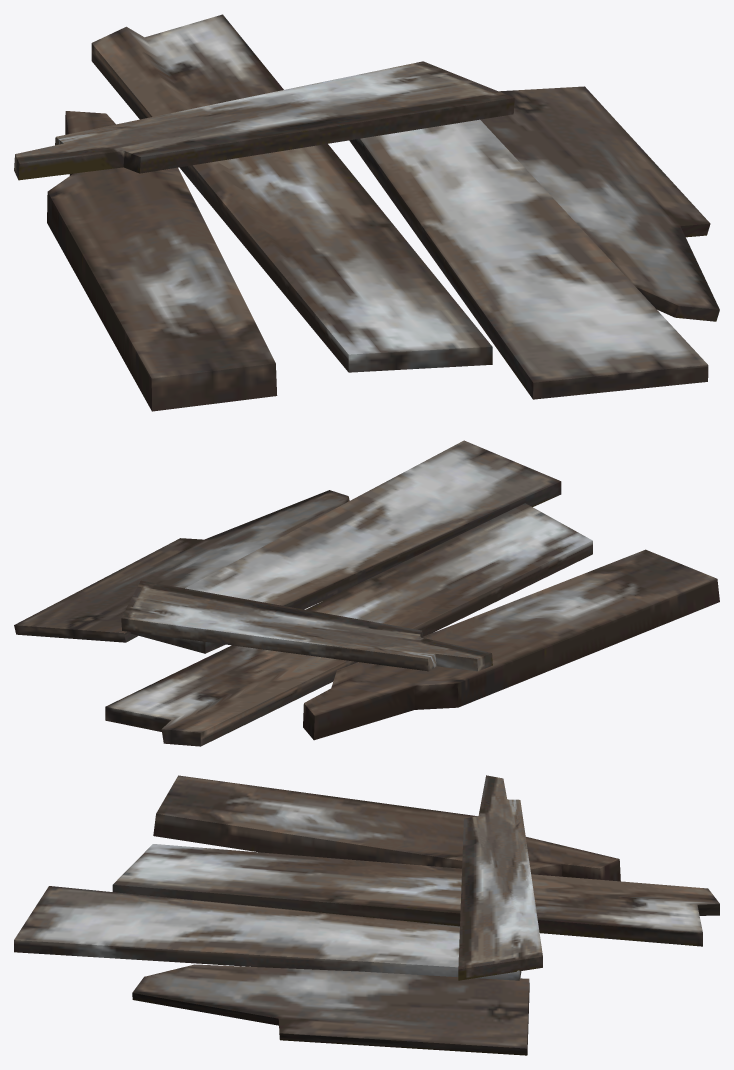
Rendered from 2005_Item_mutou_5.FBX.
3 renders of one model, top to bottom at view 1: azimuth 30°, elevation 25°; view 2: azimuth 150°, elevation 25°; view 3: azimuth 270°, elevation 25°, orthographic. The views are drawn at different scales.
Parts seen in each view (by area): view 1: 2005_Item_mutou_5; view 2: 2005_Item_mutou_5; view 3: 2005_Item_mutou_5.
Part boxes in pixels (bbox=[...]): 2005_Item_mutou_5: bbox=[14, 14, 719, 411]; 2005_Item_mutou_5: bbox=[14, 440, 719, 746]; 2005_Item_mutou_5: bbox=[14, 775, 719, 1055].
Bounding box in the file's own units: 112 × 15.94 × 141.
